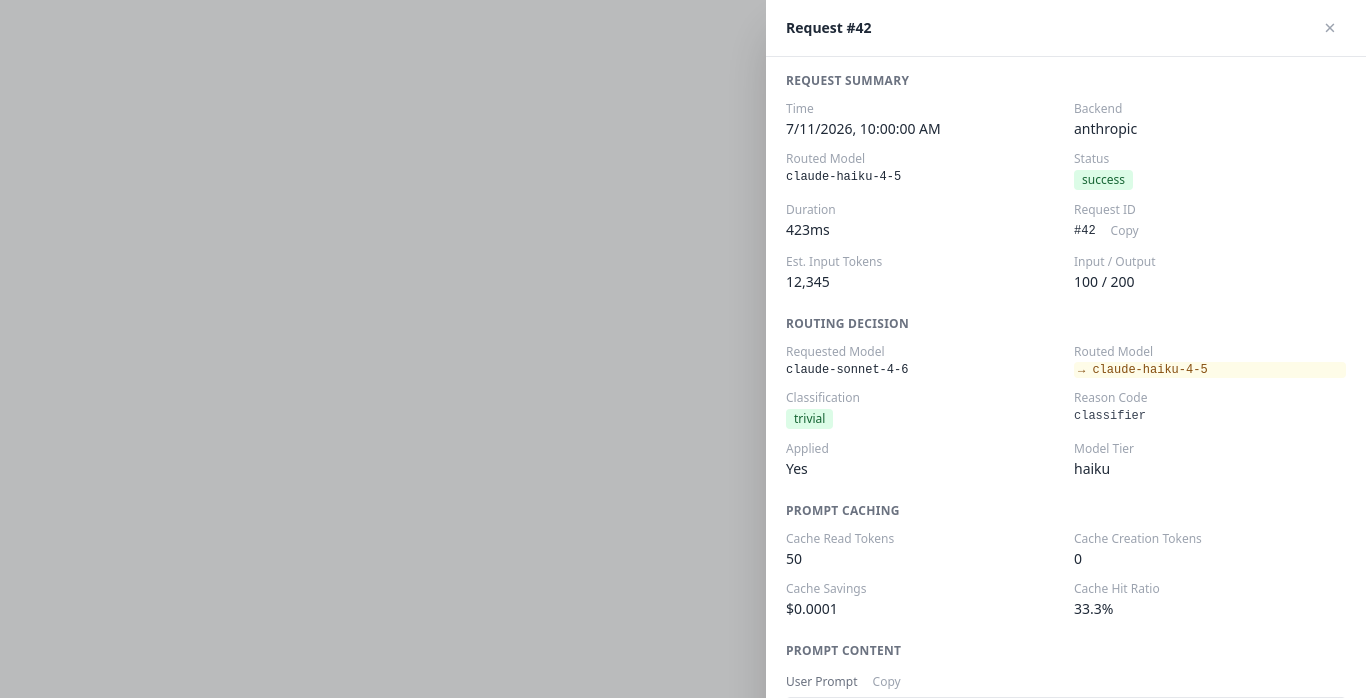
Test: RequestDetailDrawer › CopyButton shows "Copied!" feedback after click
Expected: the text "User Prompt" is shown, [786,673,858,690]
Click the button "Copy" below "Request ID": (1125, 231) [1104,220,1146,242]
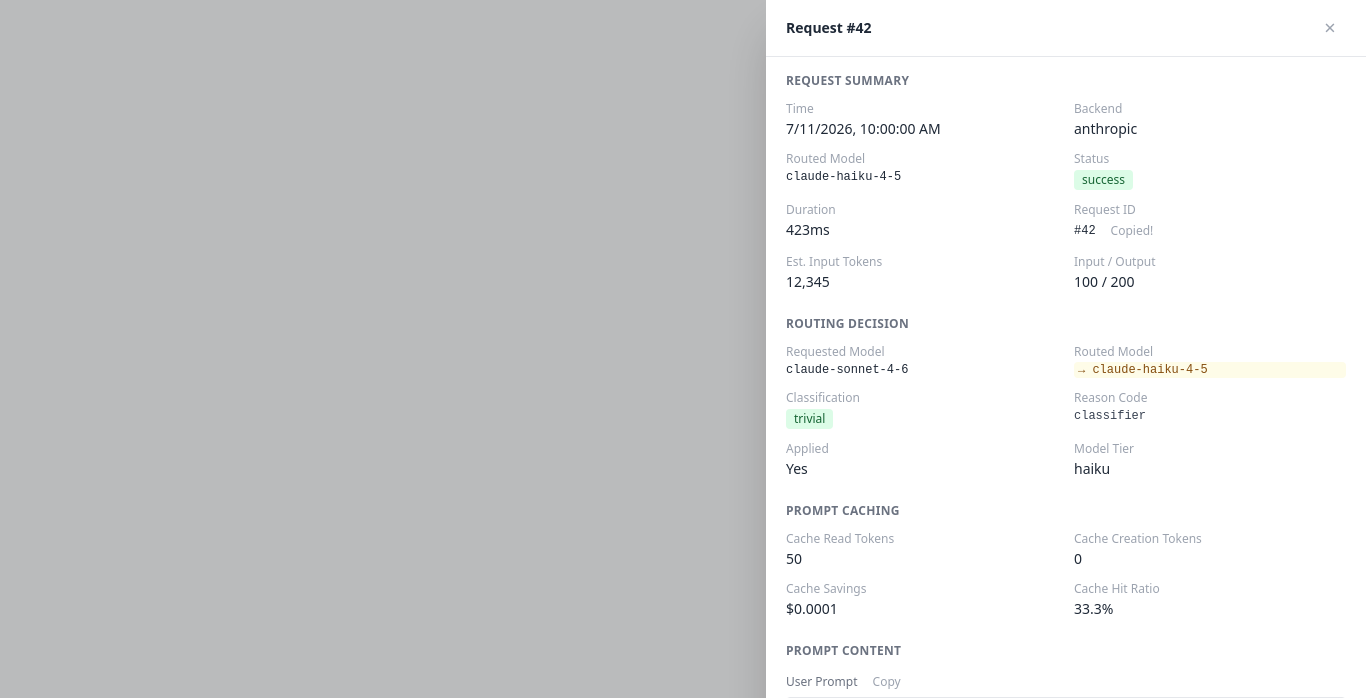
Now the button "Copied!" is shown, box [1104,220,1160,242]
